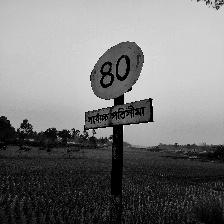Speed-limit: (84, 43, 152, 129)
